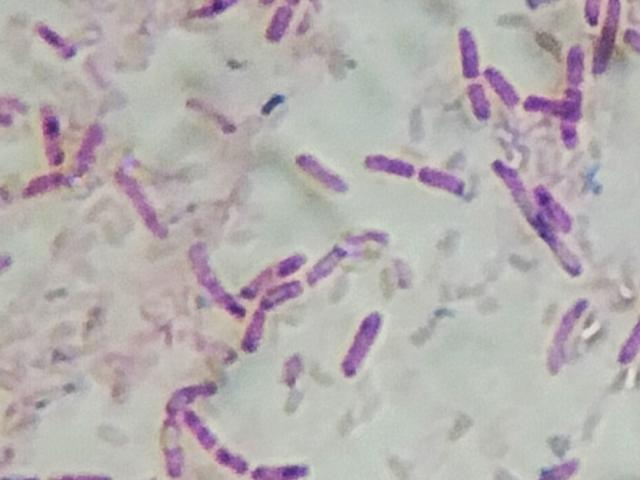E. coli: (115, 165, 174, 240), (518, 205, 579, 273), (539, 290, 586, 374), (191, 245, 243, 315), (339, 303, 381, 375), (289, 147, 346, 199), (183, 96, 241, 143), (244, 255, 305, 290), (168, 375, 226, 410), (71, 125, 113, 173), (533, 177, 574, 226), (160, 414, 190, 480), (418, 163, 471, 200), (595, 0, 621, 75), (488, 156, 527, 205), (258, 0, 300, 44), (611, 307, 640, 370), (35, 102, 63, 162), (36, 22, 73, 67), (19, 165, 66, 200), (311, 245, 350, 286), (525, 453, 581, 480), (359, 149, 417, 175), (251, 456, 313, 480), (455, 27, 483, 75), (261, 281, 305, 310), (242, 303, 263, 359), (216, 445, 250, 479), (463, 80, 488, 125), (562, 85, 580, 144), (488, 62, 512, 106), (188, 405, 210, 451), (532, 92, 572, 113), (621, 20, 640, 58), (563, 42, 582, 73), (582, 0, 599, 25)
